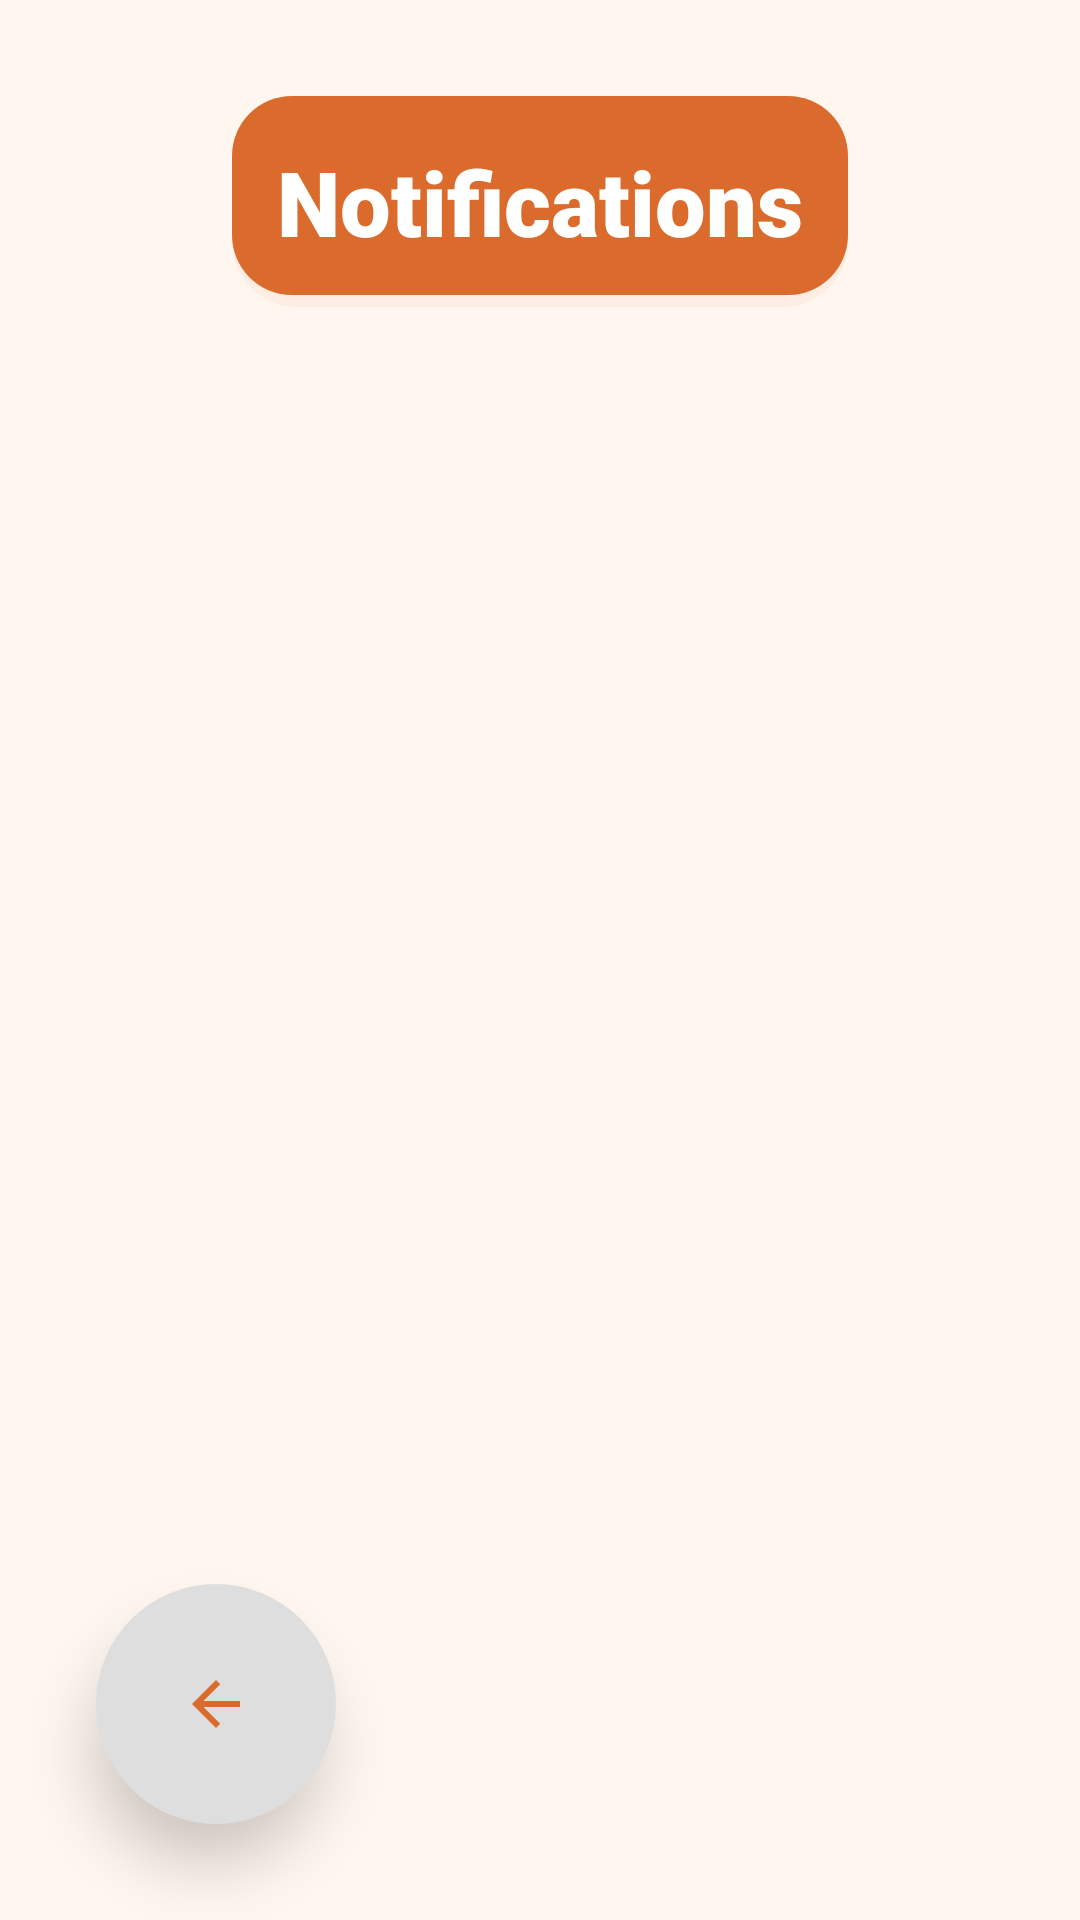

Screen size 1080 × 1920. Icon name, then its box in pixels as box=[x1, y1, x2, y2]:
arrow back: box=[96, 1584, 336, 1824]
